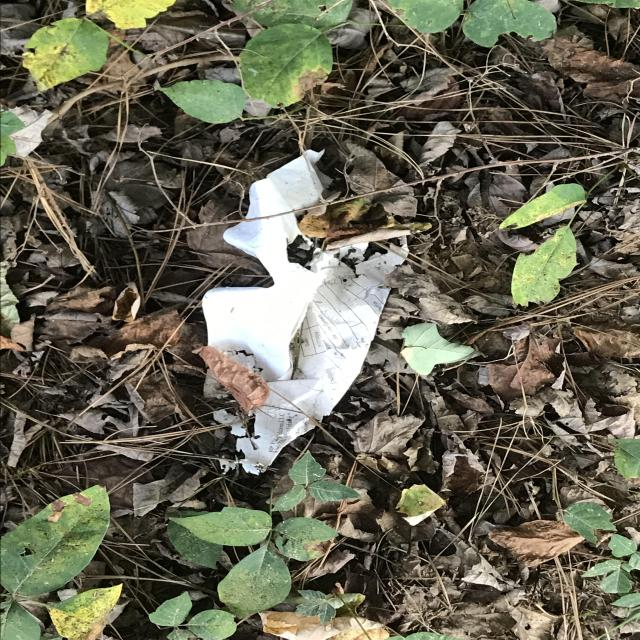litter: (203, 152, 411, 470)
